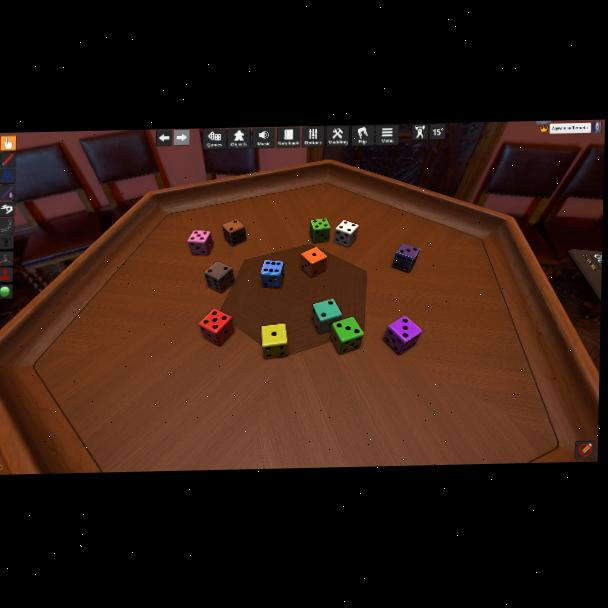d6: (327, 316, 365, 356), (384, 315, 421, 355), (198, 309, 234, 347), (261, 322, 290, 359), (311, 299, 341, 334), (203, 261, 235, 293), (392, 242, 420, 274), (300, 248, 326, 278), (260, 260, 285, 290), (333, 219, 358, 249), (188, 230, 213, 257), (221, 220, 246, 247), (309, 218, 330, 244)
